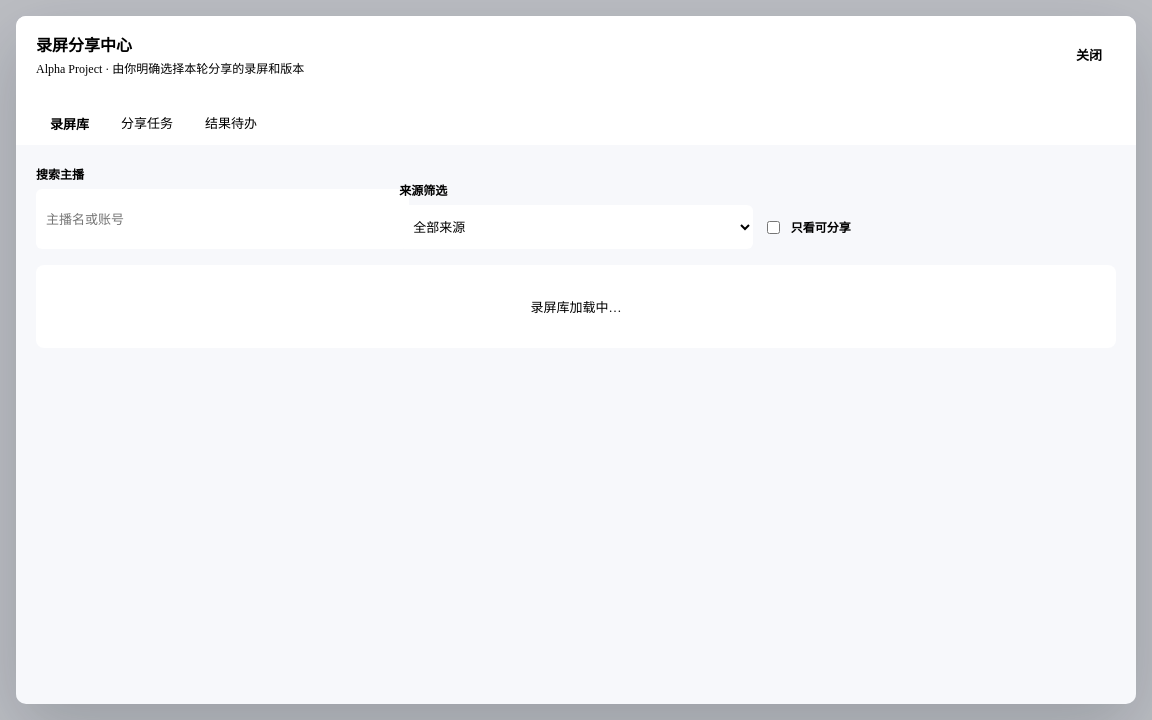
Test case: AdmissionShareCenter › loads task pages explicitly, appends by id, and never requests every page automatically
Click the tab "分享任务". click: {"x": 147, "y": 123}
box: left=107, top=101, right=187, bottom=145
(page scrolled)
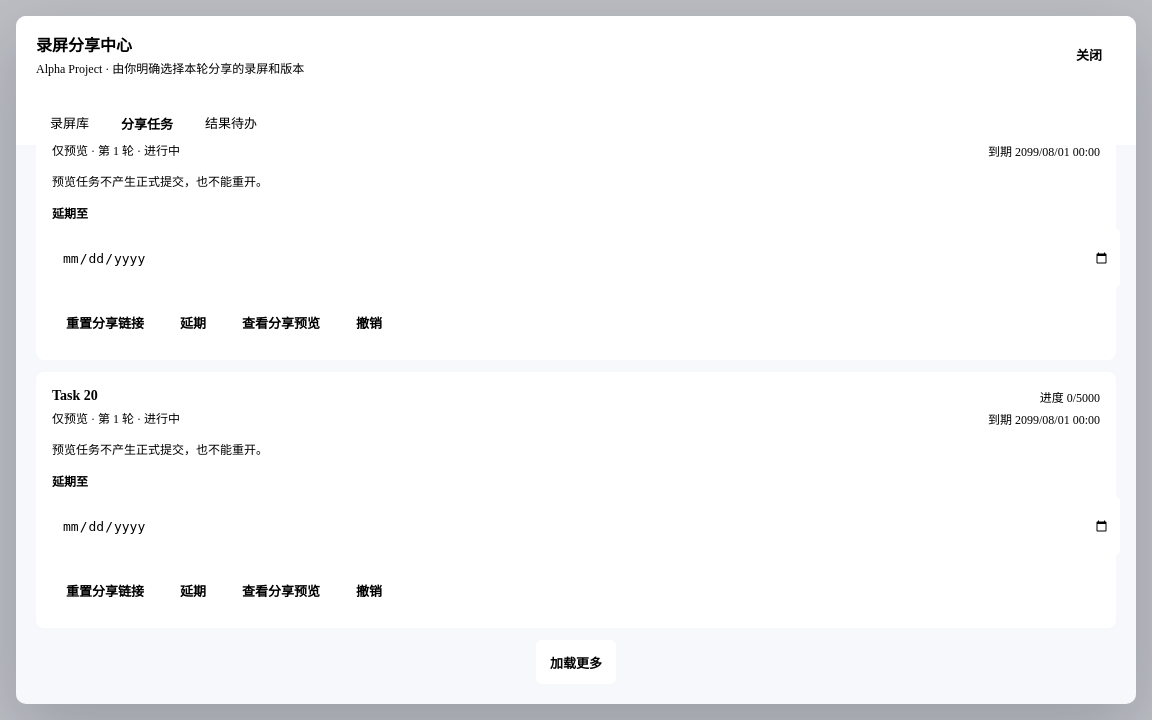
Click the button with aria-label "加载更多分享任务". click: {"x": 576, "y": 662}
box: left=536, top=640, right=616, bottom=684
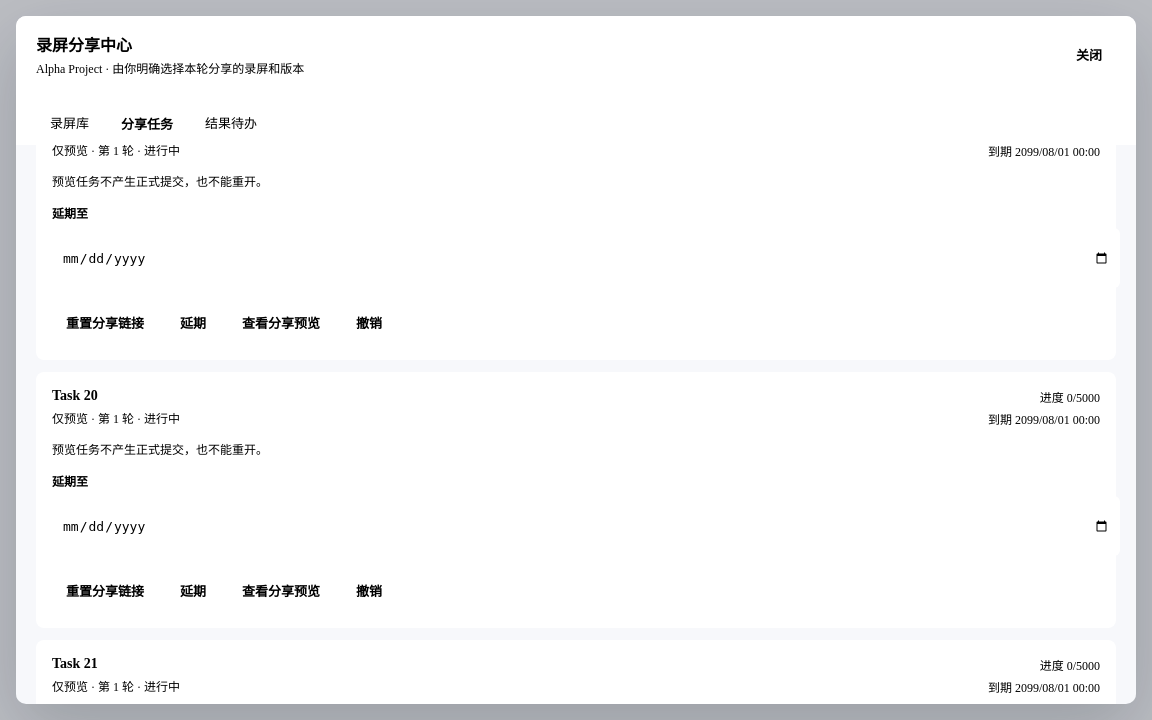
Check: the text "Task 20" is shown once, box left=52, top=388, right=98, bottom=403
Check: the text "Task 21" is shown, box left=52, top=656, right=98, bottom=671
Check: the button "加载更多分享任务" is gone
